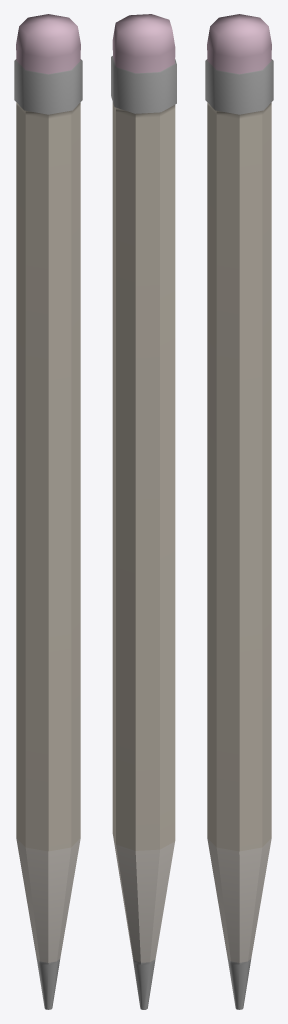
Rendered from pencil.fbx.
3 renders of one model, left to right at view 1: azimuth 90°, elevation 25°; view 2: azimuth 210°, elevation 25°; view 3: azimuth 270°, elevation 25°, orthographic.
Parts seen in each view (by area): view 1: pencil; view 2: pencil; view 3: pencil.
Boxes of the visible parts, <box> form: pencil: <box>14,14,82,1009</box>; pencil: <box>111,14,176,1009</box>; pencil: <box>205,14,273,1009</box>.
Bounding box in the file's own units: 31.26 × 500 × 31.26.
